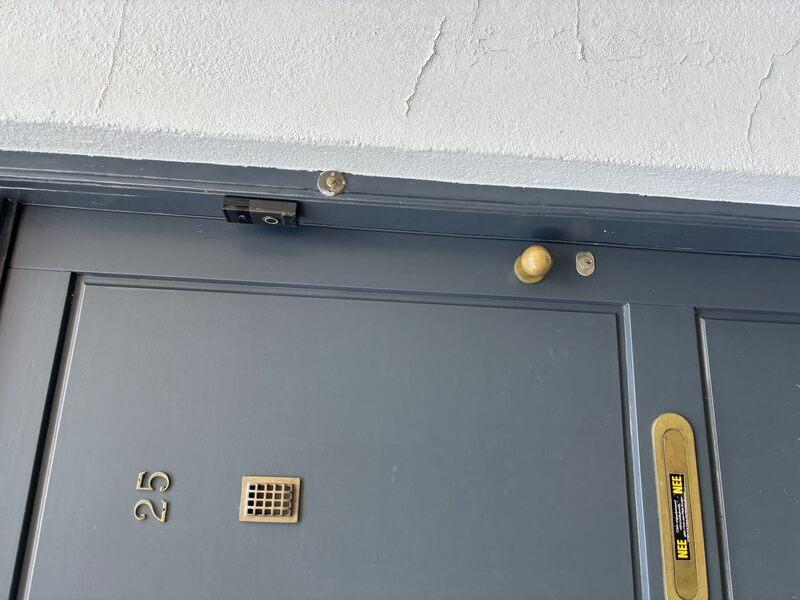doorbell: (373, 219, 404, 299)
